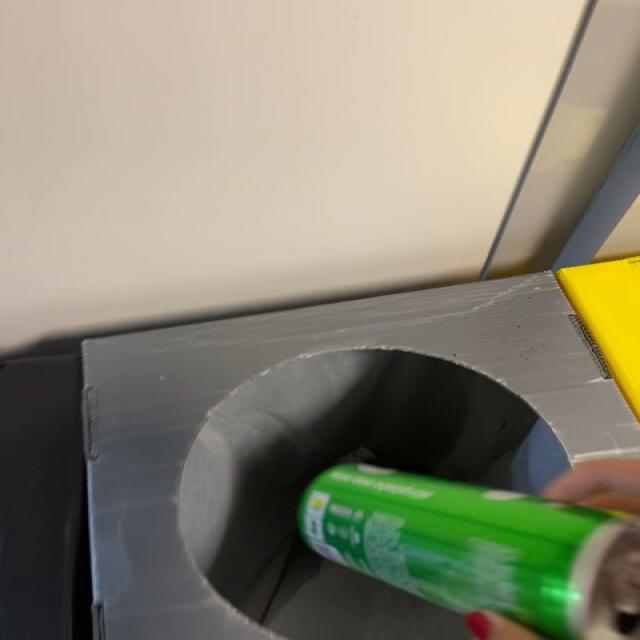bin: (81, 273, 639, 640)
metal: (297, 465, 640, 640)
